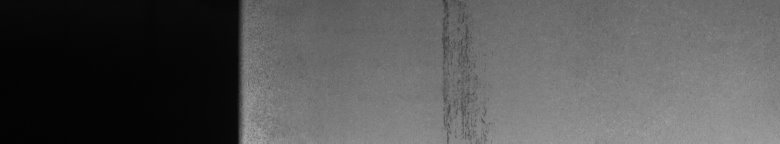ka: (436, 4, 491, 136)
